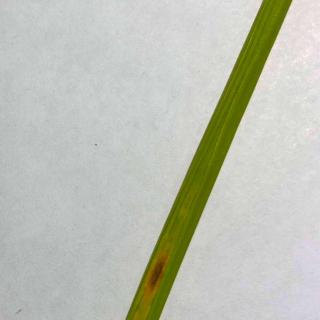bercak-Cokelat: (139, 243, 189, 299)
